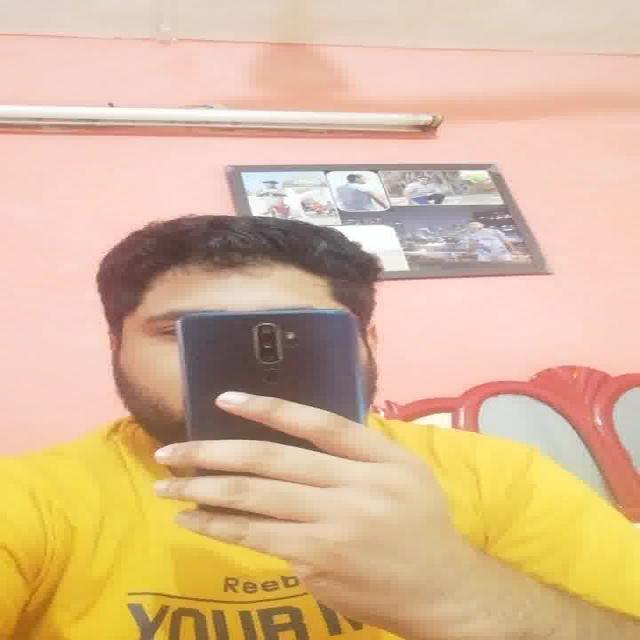Phone: (174, 302, 370, 445)
